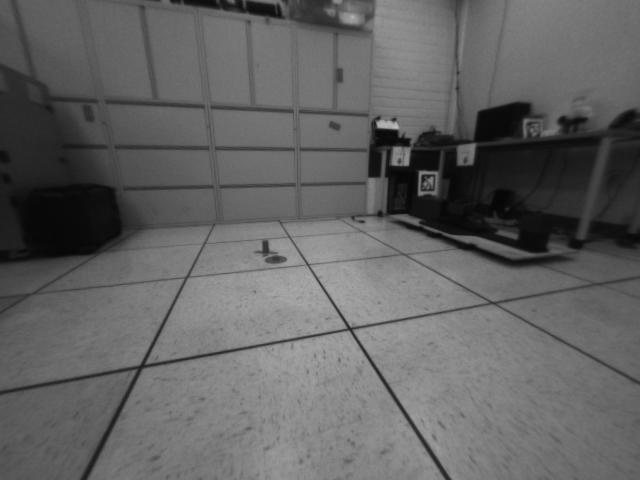X: (255, 239, 278, 256)
